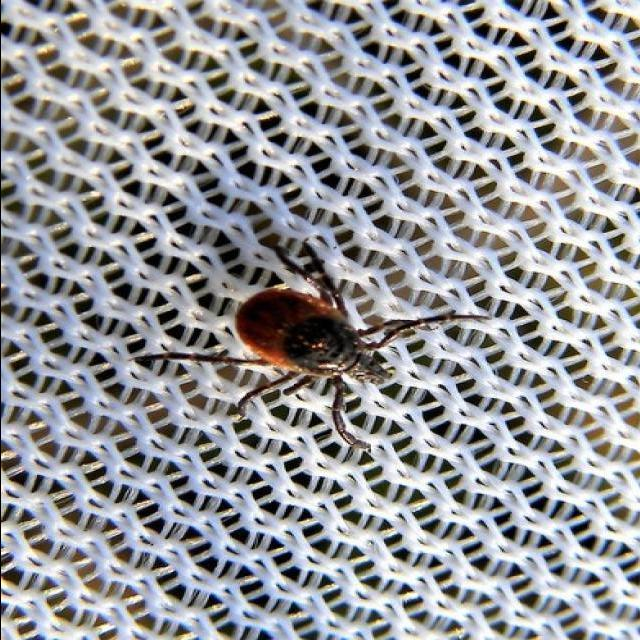Ixodes Ricinus-F: (141, 244, 470, 451)
